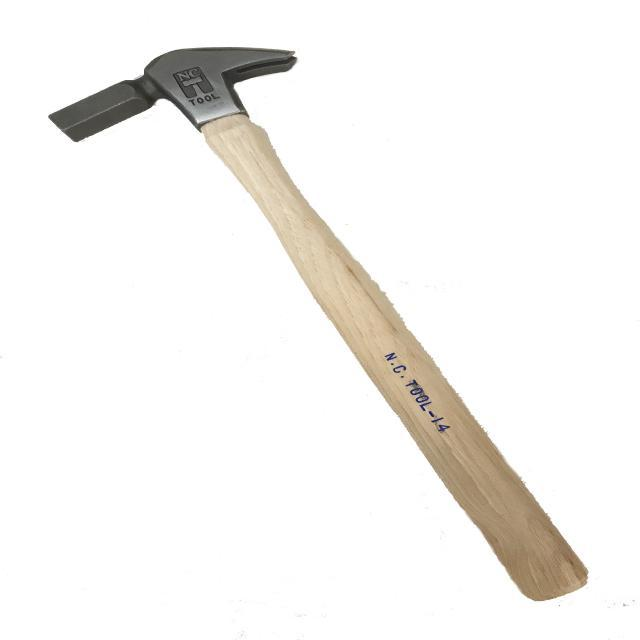hammer: (36, 43, 610, 605)
